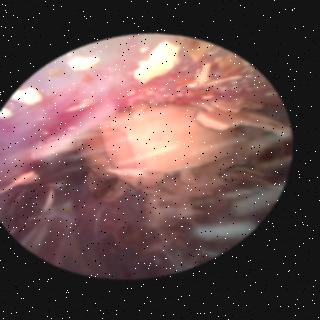stone: (82, 108, 291, 257), (136, 44, 179, 84), (198, 59, 242, 86), (5, 172, 44, 192), (185, 40, 213, 62), (16, 89, 44, 105), (189, 90, 218, 102), (73, 58, 100, 70)
